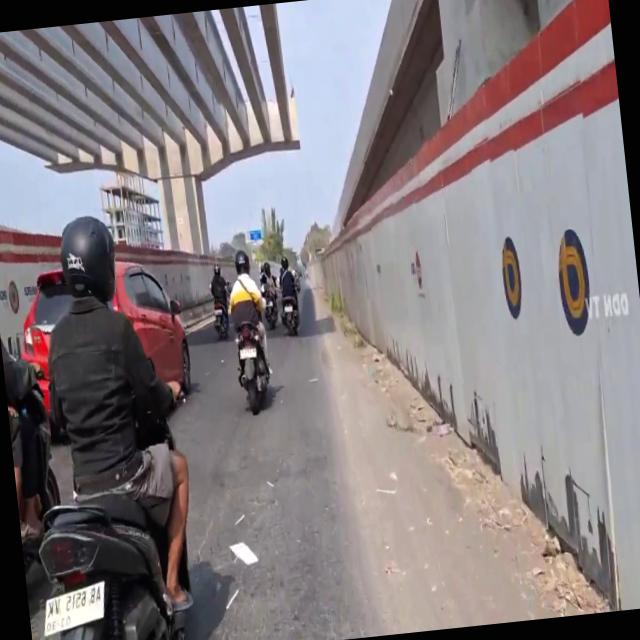WithHelmet: (31, 206, 206, 623), (223, 248, 273, 378), (274, 254, 301, 325), (206, 262, 233, 323), (258, 262, 279, 310)
